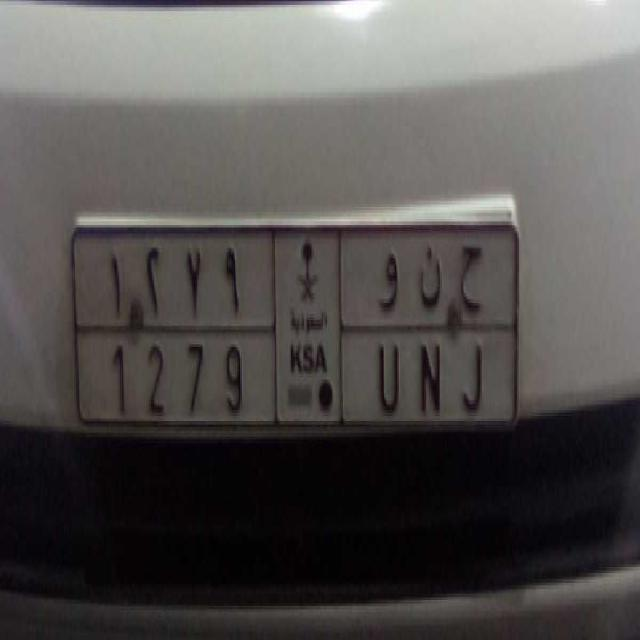license_plate: (73, 327, 516, 448)
